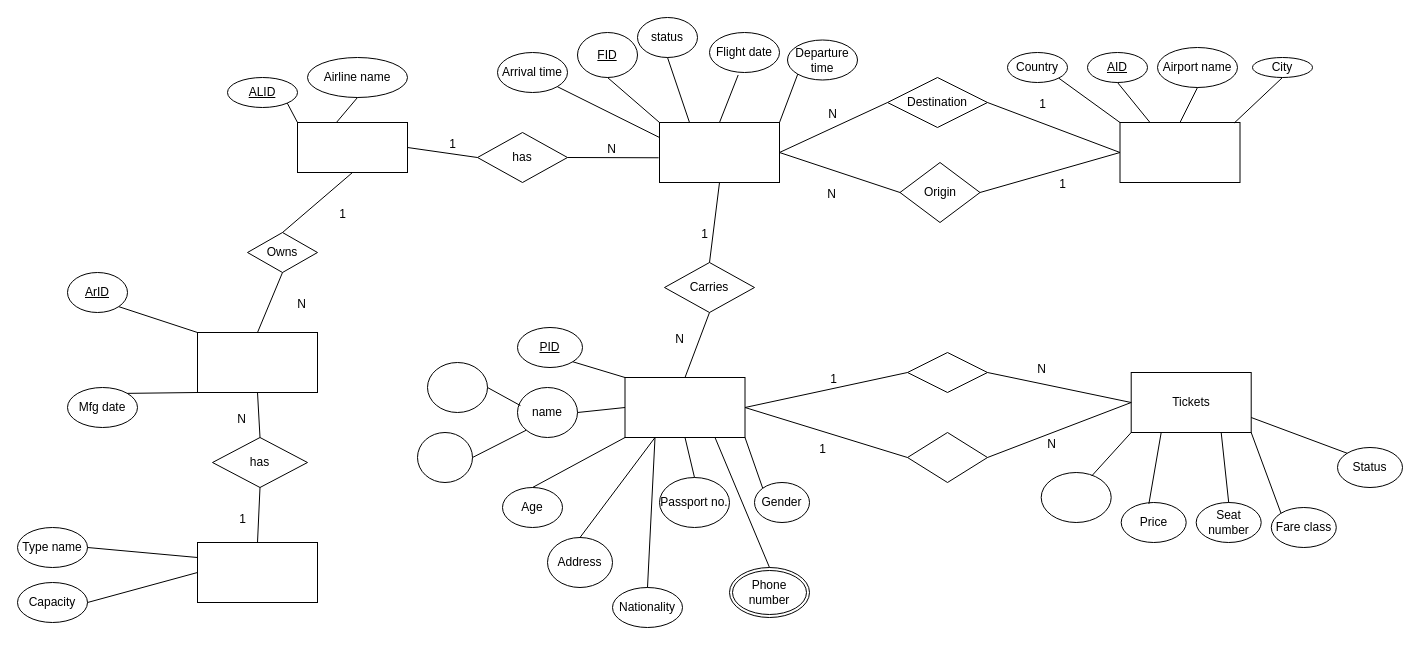
The diagram is 1420 pixels wide and 645 high, and some of its shapes have lost their labels. Each missing label, with the centre of its shape:
"Aircraft" belongs at point (257, 362).
"Aircraft type" belongs at point (257, 572).
"Airline" belongs at point (352, 147).
"Airport" belongs at point (1179, 152).
"Book" belongs at point (947, 372).
"Cancel" belongs at point (947, 457).
"Flights" belongs at point (719, 152).
"Fname" belongs at point (444, 457).
"Lname" belongs at point (457, 387).
"Passengers" belongs at point (684, 407).
"TID" belongs at point (1075, 497).
